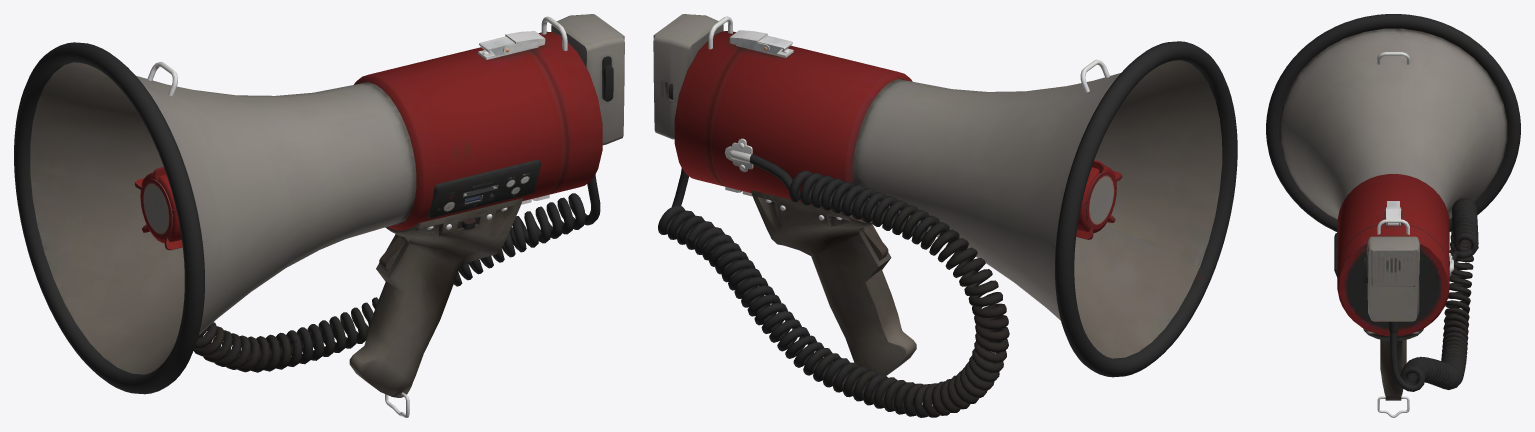
Rendered from megaphone_01.glb.
3 views of the same model, side by side, from view 1: azimuth 30°, elevation 25°; view 2: azimuth 150°, elevation 25°; view 3: azimuth 270°, elevation 25° (orthographic). The views are drawn at different scales.
Parts seen in each view (by area): view 1: Megaphone_01; view 2: Megaphone_01; view 3: Megaphone_01.
Part boxes in pixels (x1,y1,x2,y2): Megaphone_01: (14,14,624,417); Megaphone_01: (653,14,1237,417); Megaphone_01: (1266,14,1520,417).
Size of the model in its own units: 0.3707 by 0.3001 by 0.2284.
Materials: 1 (1 with a texture image).
